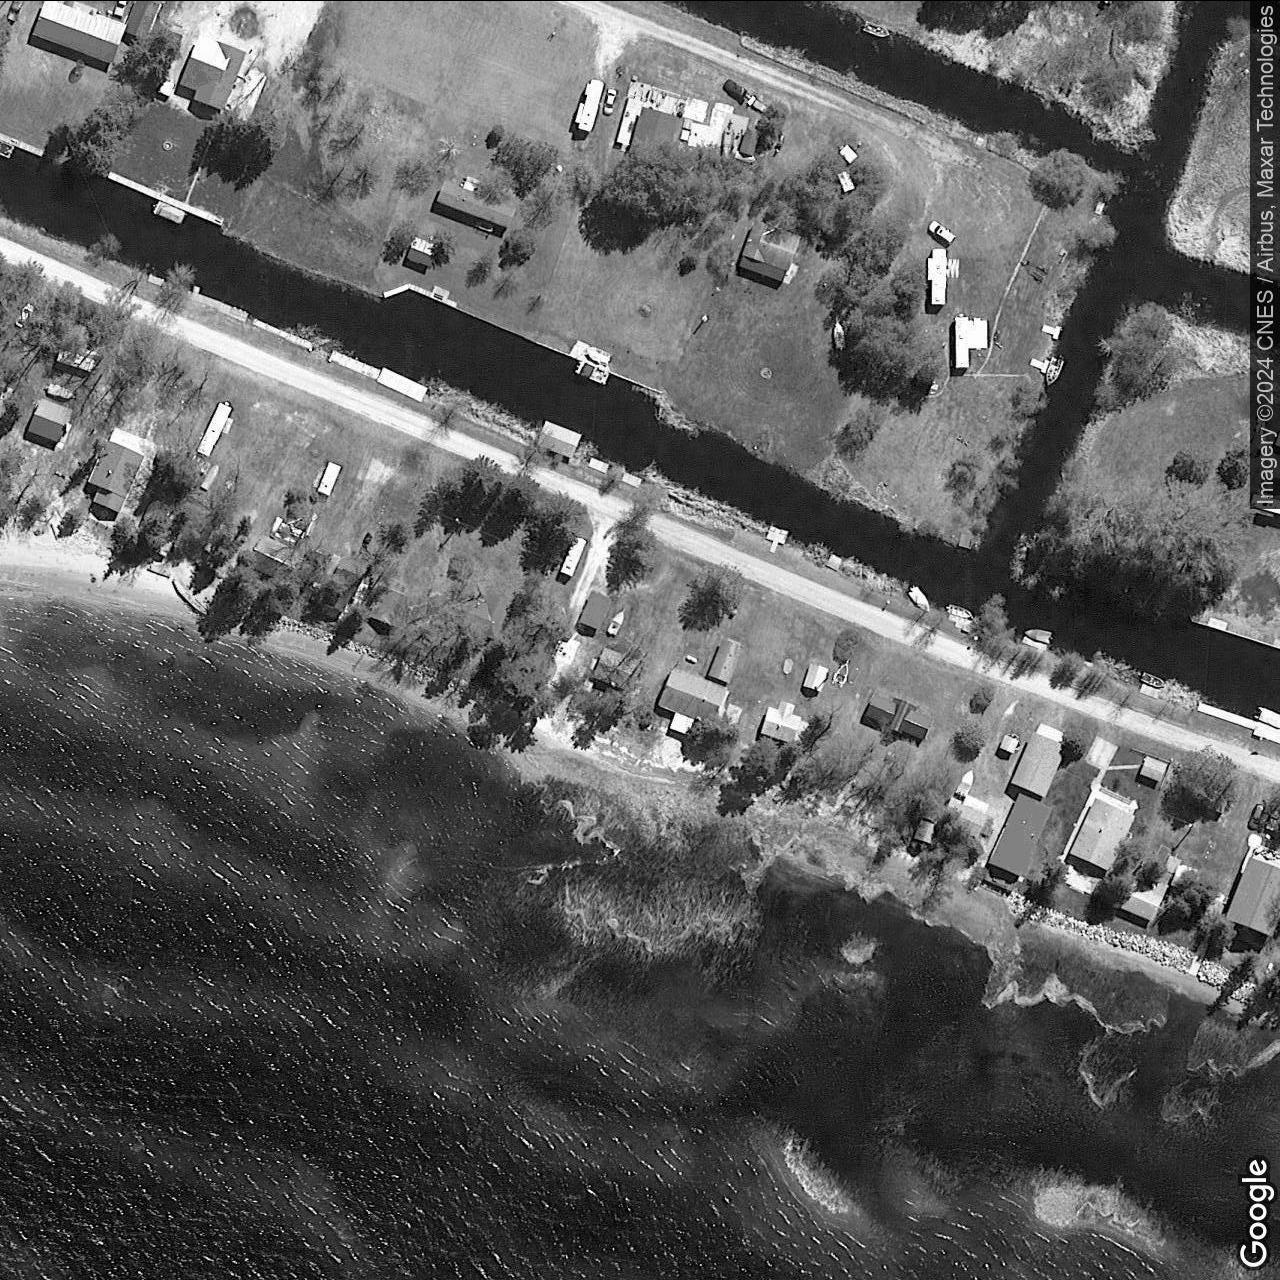Garage: (1009, 729, 1067, 798), (1119, 871, 1170, 922), (367, 583, 415, 631), (247, 535, 297, 580), (27, 397, 73, 443), (708, 638, 744, 683), (579, 590, 613, 629), (802, 661, 829, 693), (406, 245, 436, 268)
House: (33, 1, 128, 63), (987, 791, 1053, 878), (1067, 796, 1138, 874), (179, 33, 248, 110), (1225, 852, 1279, 937), (87, 440, 145, 512), (658, 667, 729, 726), (741, 219, 804, 271), (865, 693, 933, 740), (454, 591, 512, 640), (318, 557, 368, 613), (592, 647, 645, 693), (761, 699, 804, 744), (127, 1, 163, 39)
Other: (538, 420, 583, 457)
Propane: (685, 652, 700, 666)
Trailer: (436, 181, 516, 227), (196, 399, 234, 457), (955, 312, 988, 368), (574, 79, 605, 131), (559, 535, 587, 577), (927, 247, 947, 305)
